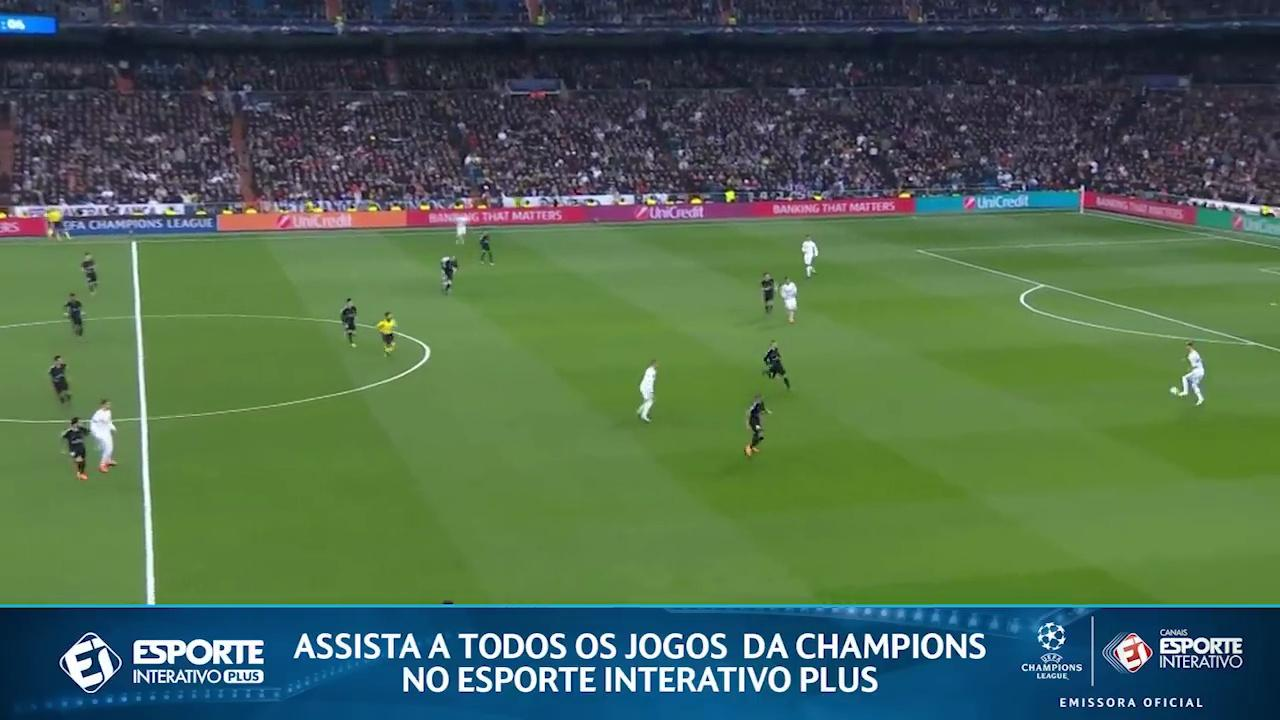football: (1168, 384, 1180, 398)
player: (89, 399, 115, 472), (61, 417, 88, 480), (1179, 341, 1204, 405), (745, 395, 768, 456), (763, 341, 790, 389), (637, 360, 657, 421), (48, 356, 71, 404), (64, 293, 84, 336), (340, 298, 357, 347), (779, 277, 797, 322), (802, 236, 818, 278), (81, 253, 97, 294), (760, 272, 775, 313), (441, 256, 457, 294), (479, 232, 494, 266), (456, 213, 467, 244)
referee: (376, 312, 396, 355), (46, 207, 69, 239)
